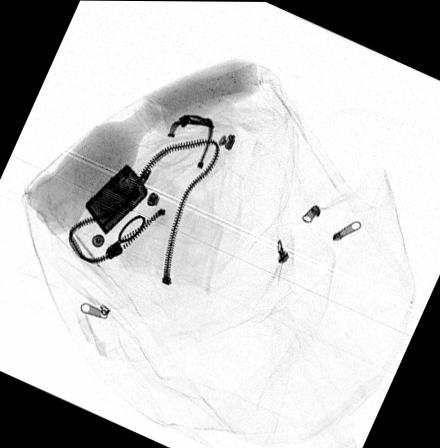Lighter: (83, 162, 147, 235)
